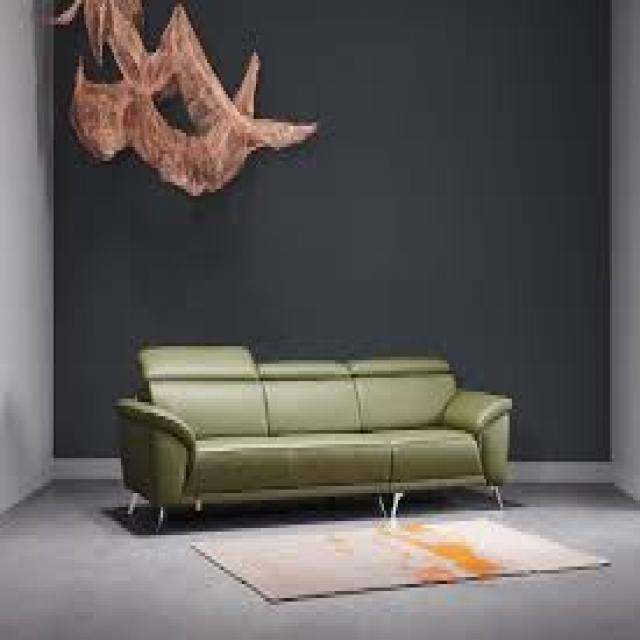Sofa: (92, 306, 548, 536)
